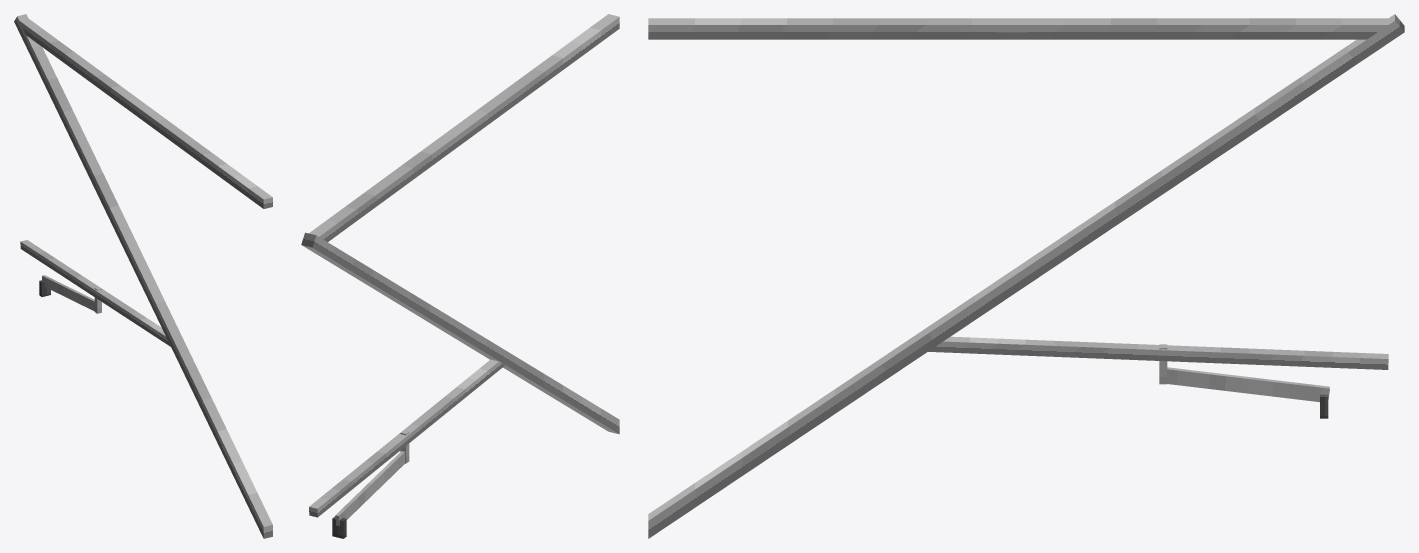
File: cantilever_inner_4px.obj
3 views of the same model, side by side, from view 1: azimuth 30°, elevation 25°; view 2: azimuth 150°, elevation 25°; view 3: azimuth 270°, elevation 25° (orthographic). The views are drawn at different scales.
Parts seen in each view (by area): view 1: 45da4dee-cd70-4385-90c6-afef355a33a9, 63b284c2-ddbd-4964-aa58-7f816024ddb1, a389c093-fc20-42e9-966d-a1d1c210e0b4, 85c7a005-16ef-45a4-8f6c-7b9d76ed4718; view 2: 63b284c2-ddbd-4964-aa58-7f816024ddb1, 45da4dee-cd70-4385-90c6-afef355a33a9, a389c093-fc20-42e9-966d-a1d1c210e0b4, 85c7a005-16ef-45a4-8f6c-7b9d76ed4718; view 3: 45da4dee-cd70-4385-90c6-afef355a33a9, 63b284c2-ddbd-4964-aa58-7f816024ddb1, a389c093-fc20-42e9-966d-a1d1c210e0b4, 85c7a005-16ef-45a4-8f6c-7b9d76ed4718.
Boxes of the visible parts, bbox=[...] form: 45da4dee-cd70-4385-90c6-afef355a33a9: bbox=[14, 14, 272, 538]; 63b284c2-ddbd-4964-aa58-7f816024ddb1: bbox=[19, 18, 272, 208]; a389c093-fc20-42e9-966d-a1d1c210e0b4: bbox=[20, 240, 170, 346]; 85c7a005-16ef-45a4-8f6c-7b9d76ed4718: bbox=[42, 275, 94, 311]; 63b284c2-ddbd-4964-aa58-7f816024ddb1: bbox=[309, 14, 619, 241]; 45da4dee-cd70-4385-90c6-afef355a33a9: bbox=[301, 232, 619, 434]; a389c093-fc20-42e9-966d-a1d1c210e0b4: bbox=[309, 359, 504, 517]; 85c7a005-16ef-45a4-8f6c-7b9d76ed4718: bbox=[335, 451, 404, 526]; 45da4dee-cd70-4385-90c6-afef355a33a9: bbox=[648, 14, 1404, 538]; 63b284c2-ddbd-4964-aa58-7f816024ddb1: bbox=[648, 18, 1388, 39]; a389c093-fc20-42e9-966d-a1d1c210e0b4: bbox=[928, 336, 1388, 369]; 85c7a005-16ef-45a4-8f6c-7b9d76ed4718: bbox=[1167, 367, 1329, 402].
Bounding box in the file's own units: 0.0625 × 2.22 × 2.94.
